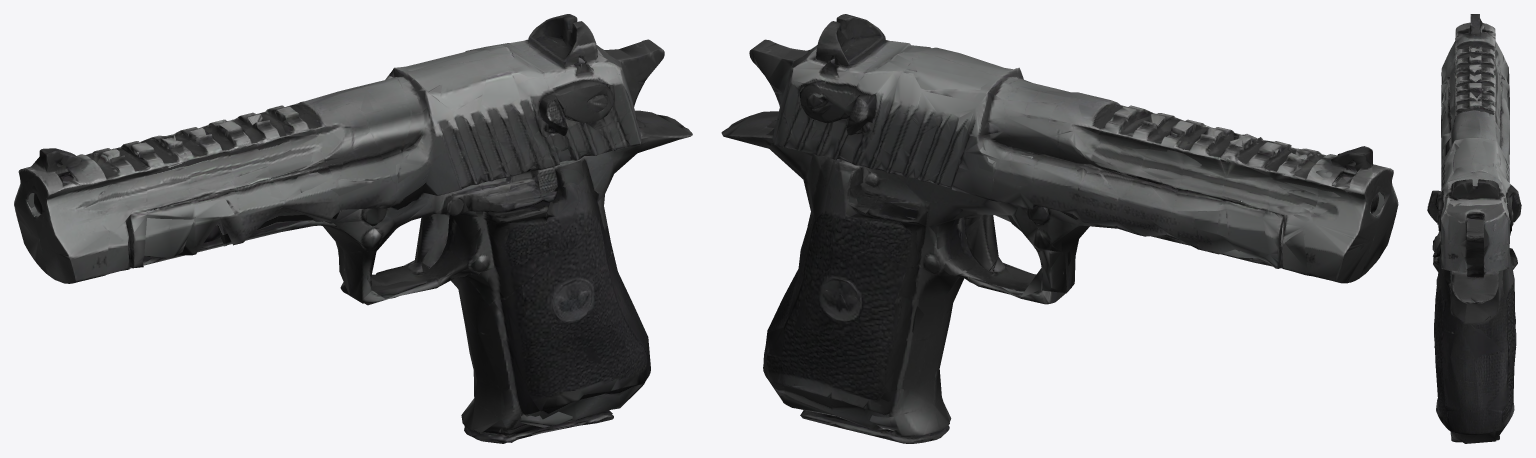
Rendered from deagle.glb.
3 renders of one model, left to right at view 1: azimuth 30°, elevation 25°; view 2: azimuth 150°, elevation 25°; view 3: azimuth 270°, elevation 25°, orthographic. The views are drawn at different scales.
Size of the model in its own units: 1.9 by 1.09 by 0.3647.
1 material, 1 textured.
